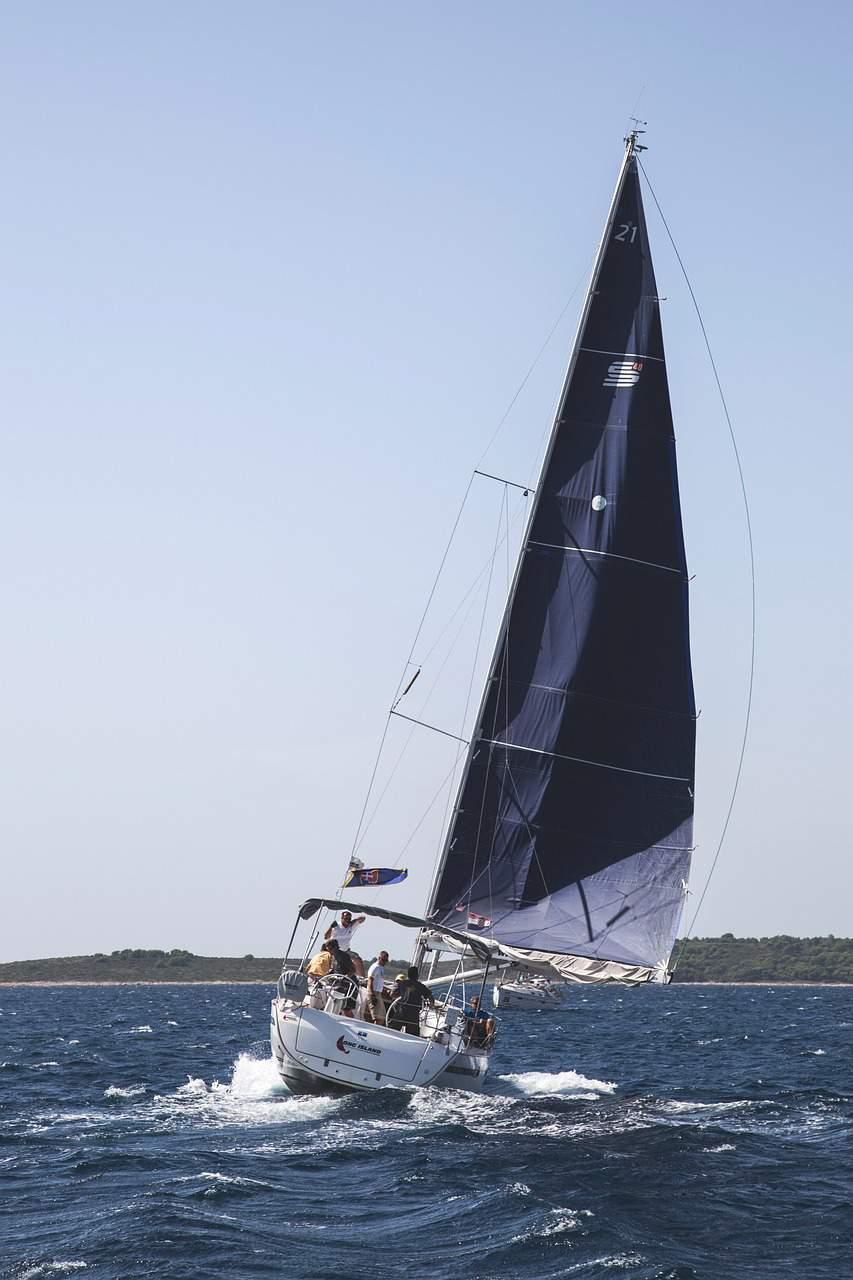Ship: (268, 123, 698, 1099)
